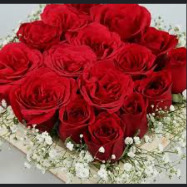RedRose: (0, 44, 45, 106), (13, 73, 70, 118), (81, 65, 130, 115), (84, 115, 127, 166), (47, 41, 98, 77), (135, 70, 173, 114), (56, 96, 93, 140), (119, 92, 150, 141), (77, 25, 121, 59), (110, 46, 157, 75), (136, 26, 177, 58)
